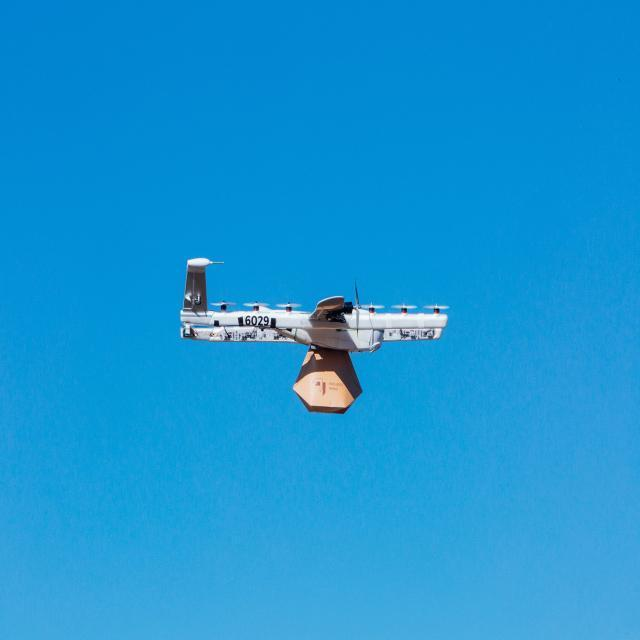iha: (163, 238, 485, 453)
